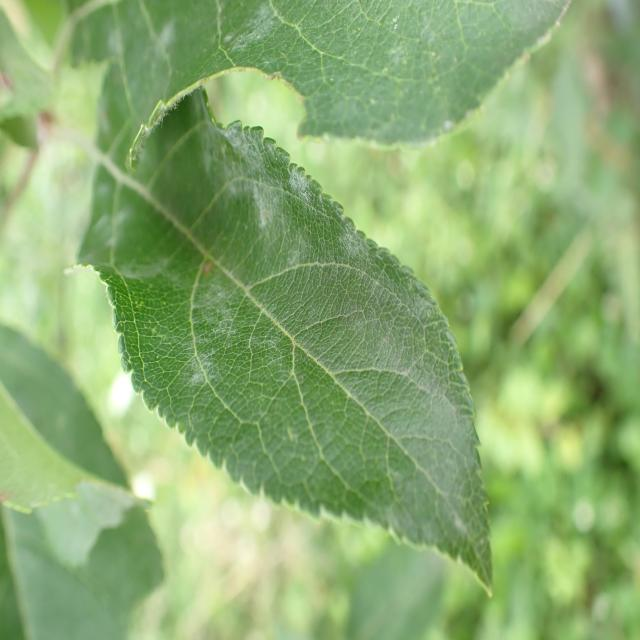Black Rot: (133, 49, 324, 188)
Powdery_mildew: (106, 111, 478, 576)
